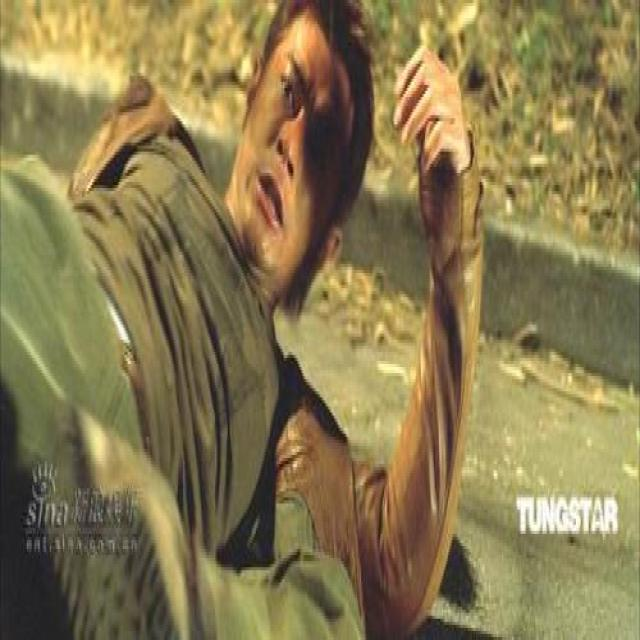fall: (5, 6, 475, 589)
